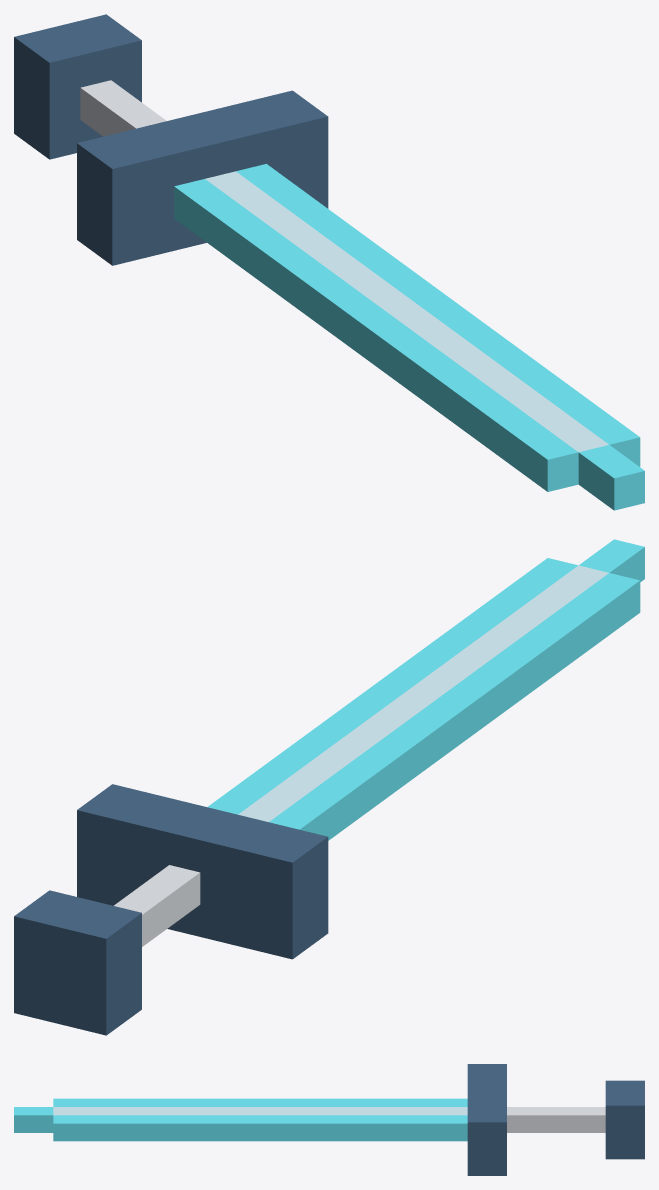
Rendered from vox_blade_sky.glb.
3 views of the same model, one above another, from view 1: azimuth 30°, elevation 25°; view 2: azimuth 150°, elevation 25°; view 3: azimuth 270°, elevation 25° (orthographic). The views are drawn at different scales.
Visible parts, largest first — view 1: vox_blade_sky; view 2: vox_blade_sky; view 3: vox_blade_sky.
Part boxes in pixels (x1=…): vox_blade_sky: x1=14, y1=14, x2=644, y2=510; vox_blade_sky: x1=14, y1=539, x2=644, y2=1035; vox_blade_sky: x1=14, y1=1064, x2=644, y2=1175.
Bounding box in the file's own units: 0.14 × 0.06 × 0.64.
